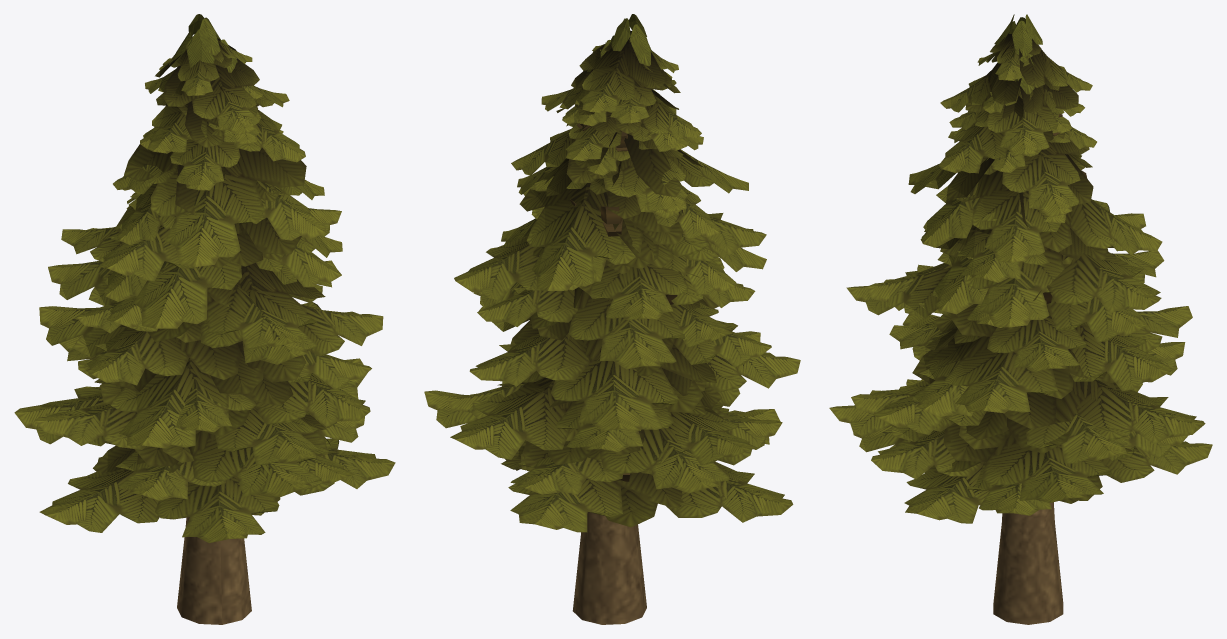
The model's file is pinetree.fbx.
The picture shows the model from 3 angles, left to right: view 1: azimuth 30°, elevation 25°; view 2: azimuth 150°, elevation 25°; view 3: azimuth 270°, elevation 25°; orthographic projection. The views are drawn at different scales.
Parts seen in each view (by area): view 1: Leaves/001, Trank.001; view 2: Leaves/001, Trank.001; view 3: Leaves/001, Trank.001.
Boxes of the visible parts, x1,y1,x2,y2 form: Leaves/001: (14, 14, 395, 542); Trank.001: (177, 517, 251, 624); Leaves/001: (424, 14, 800, 532); Trank.001: (572, 512, 646, 624); Leaves/001: (829, 14, 1212, 523); Trank.001: (993, 502, 1063, 624).
Size of the model in its own units: 3.49 by 5.83 by 3.45.
